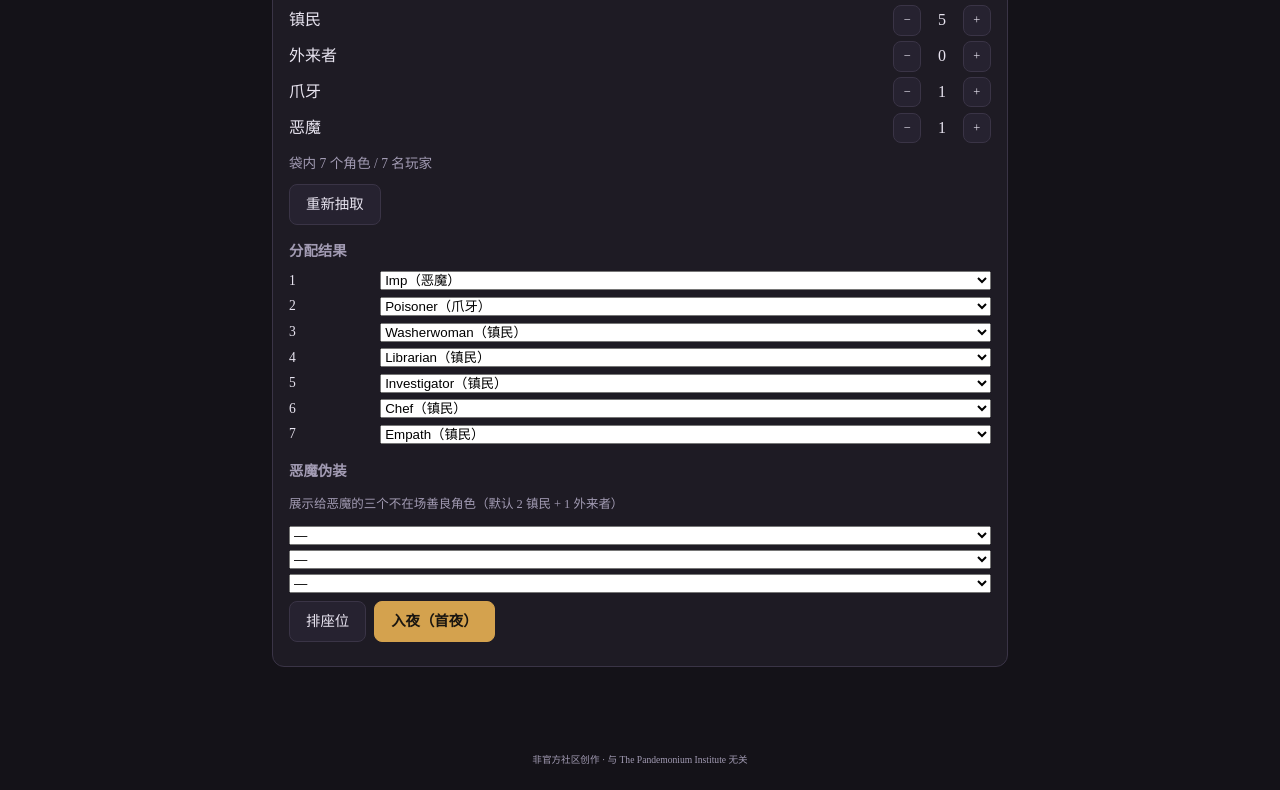
App 主流程（M1 验收链路） › setup 阶段已抽袋：恢复后显示抽袋页，并可在排座位/抽袋间往返
(page scrolled)
Step 1. Click the button "排座位" → [328, 621], box [289,601,366,642]
(page scrolled)
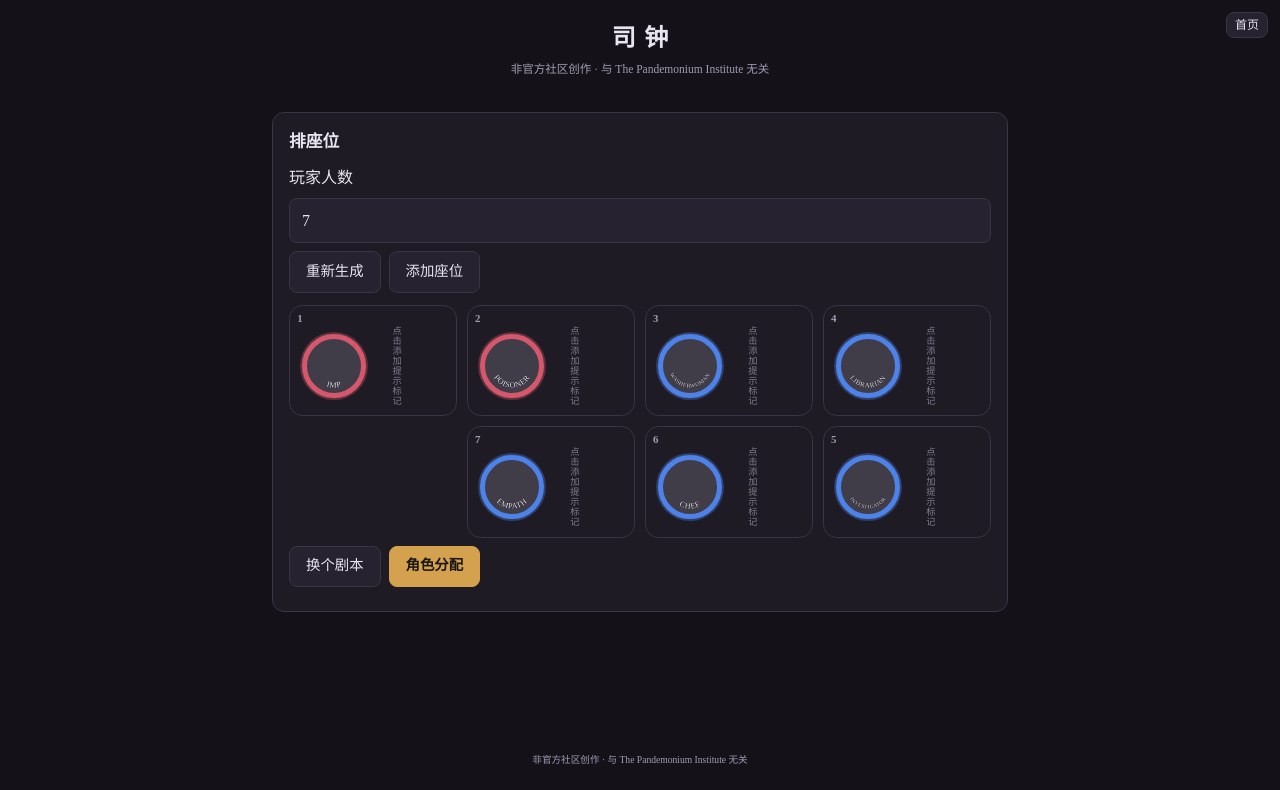
Step 2. Click the button "角色分配" → [434, 566], box [389,546,480,587]
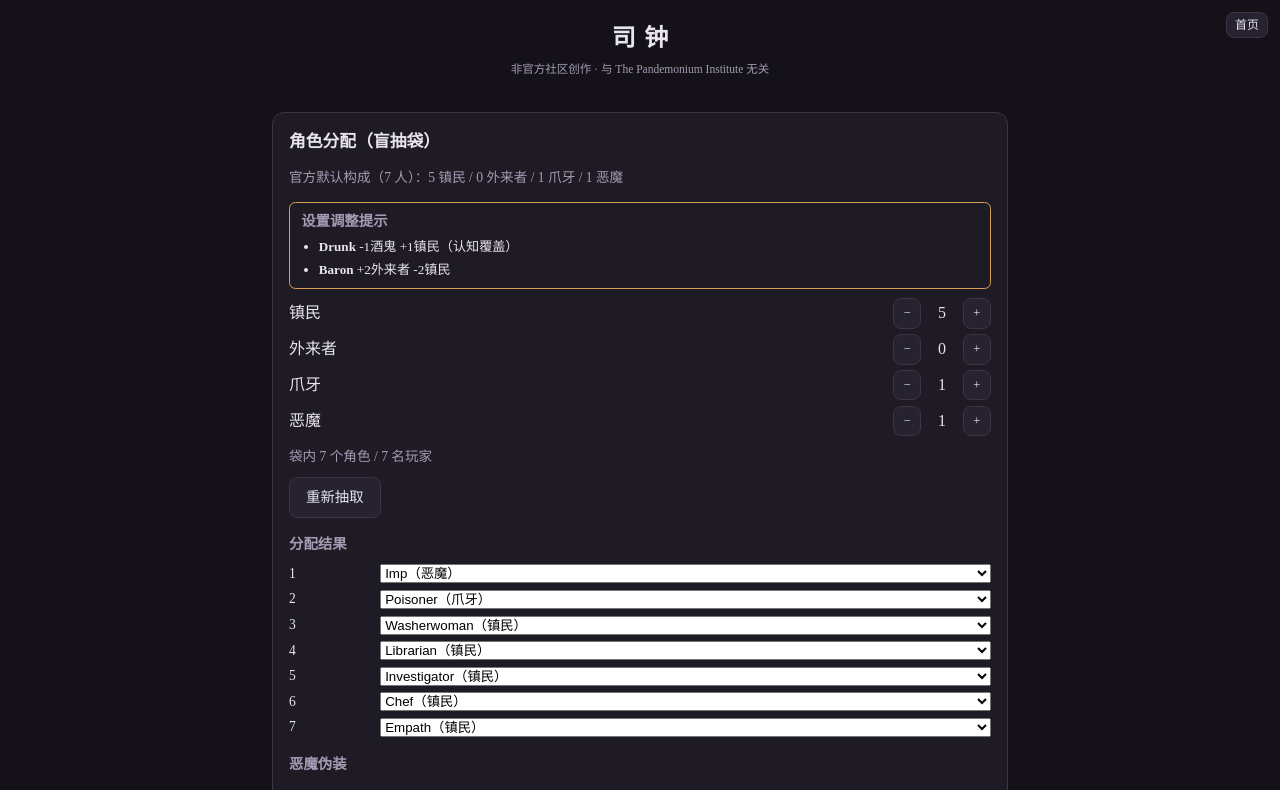
Now the heading "角色分配（盲抽袋）" is shown, box [289,132,440,151]
